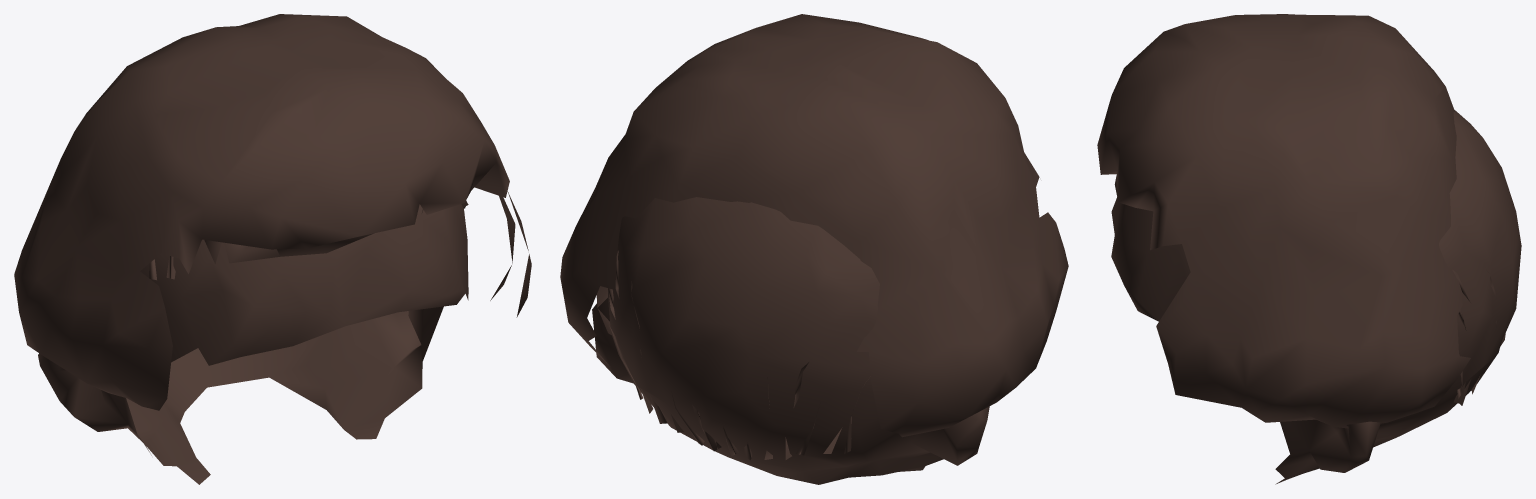
Rendered from blunt-bob.glb.
3 renders of one model, left to right at view 1: azimuth 30°, elevation 25°; view 2: azimuth 150°, elevation 25°; view 3: azimuth 270°, elevation 25°, orthographic.
Visible parts, largest first — view 1: Hair, HairScalp; view 2: Hair, HairScalp, HairPulledRootStrands; view 3: Hair, HairScalp, HairPulledRootStrands.
Boxes of the visible parts, bbox=[...] form: Hair: bbox=[14, 14, 531, 410]; HairScalp: bbox=[38, 204, 468, 484]; Hair: bbox=[560, 14, 1068, 437]; HairScalp: bbox=[592, 197, 989, 484]; HairPulledRootStrands: bbox=[608, 250, 870, 460]; Hair: bbox=[1097, 14, 1470, 428]; HairScalp: bbox=[1111, 110, 1521, 484]; HairPulledRootStrands: bbox=[1452, 270, 1505, 405].
Bounding box in the file's own units: 0.519 × 0.4495 × 0.4316.
